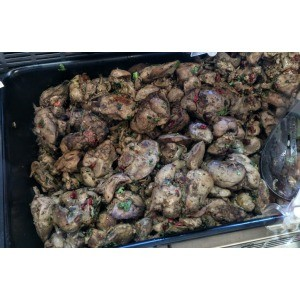liver_brain food: (44, 85, 233, 218)
